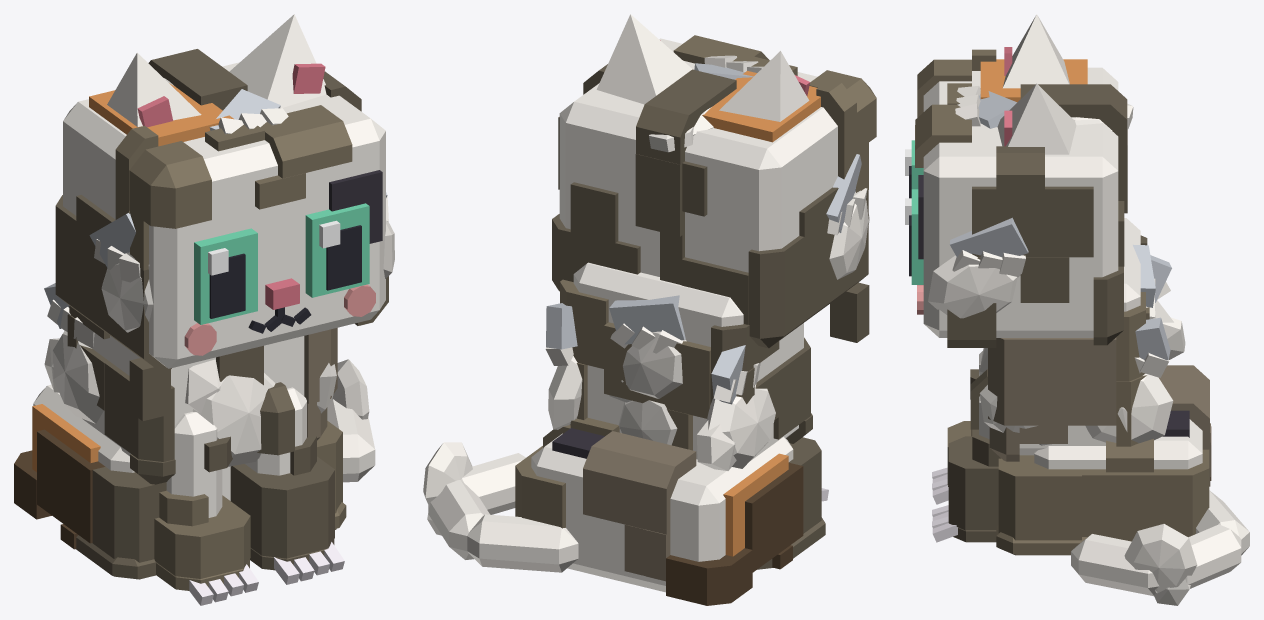
File: CleanACat_Cat_Patches_Dirty_Sit.fbx
The picture shows the model from 3 angles, left to right: view 1: azimuth 30°, elevation 25°; view 2: azimuth 150°, elevation 25°; view 3: azimuth 270°, elevation 25°; orthographic projection. The views are drawn at different scales.
Parts seen in each view (by area): view 1: CleanACat_Cat_Patches_Dirty_Sit_Head, CleanACat_Cat_Patches_Dirty_Sit_Mud17, CleanACat_Cat_Patches_Dirty_Sit_Mud01, CleanACat_Cat_Patches_Dirty_Sit_Mud06, CleanACat_Cat_Patches_Dirty_Sit_Body, CleanACat_Cat_Patches_Dirty_Sit_Mud18, CleanACat_Cat_Patches_Dirty_Sit_Mud03, CleanACat_Cat_Patches_Dirty_Sit_Mud16, CleanACat_Cat_Patches_Dirty_Sit_Mud14, CleanACat_Cat_Patches_Dirty_Sit_Mud10, CleanACat_Cat_Patches_Dirty_Sit_Eye2, CleanACat_Cat_Patches_Dirty_Sit_Eye1 (+22 smaller); view 2: CleanACat_Cat_Patches_Dirty_Sit_Head, CleanACat_Cat_Patches_Dirty_Sit_Body, CleanACat_Cat_Patches_Dirty_Sit_Mud01, CleanACat_Cat_Patches_Dirty_Sit_Mud04, CleanACat_Cat_Patches_Dirty_Sit_Mud13, CleanACat_Cat_Patches_Dirty_Sit_Tail, CleanACat_Cat_Patches_Dirty_Sit_Mud14, CleanACat_Cat_Patches_Dirty_Sit_Mud09, CleanACat_Cat_Patches_Dirty_Sit_Mud05, CleanACat_Cat_Patches_Dirty_Sit_Fluff06, CleanACat_Cat_Patches_Dirty_Sit_EarL, CleanACat_Cat_Patches_Dirty_Sit_Mud06 (+17 smaller); view 3: CleanACat_Cat_Patches_Dirty_Sit_Head, CleanACat_Cat_Patches_Dirty_Sit_Mud02, CleanACat_Cat_Patches_Dirty_Sit_Mud08, CleanACat_Cat_Patches_Dirty_Sit_Mud12, CleanACat_Cat_Patches_Dirty_Sit_Mud15, CleanACat_Cat_Patches_Dirty_Sit_Tail, CleanACat_Cat_Patches_Dirty_Sit_Body, CleanACat_Cat_Patches_Dirty_Sit_Mud17, CleanACat_Cat_Patches_Dirty_Sit_Fluff01, CleanACat_Cat_Patches_Dirty_Sit_Fluff09, CleanACat_Cat_Patches_Dirty_Sit_EarL, CleanACat_Cat_Patches_Dirty_Sit_Mud04 (+18 smaller).
Part boxes in pixels (x1=…): CleanACat_Cat_Patches_Dirty_Sit_Head: x1=63, y1=62, x2=385, y2=368; CleanACat_Cat_Patches_Dirty_Sit_Mud17: x1=230, y1=436, x2=334, y2=570; CleanACat_Cat_Patches_Dirty_Sit_Mud01: x1=55, y1=195, x2=171, y2=421; CleanACat_Cat_Patches_Dirty_Sit_Mud06: x1=115, y1=125, x2=211, y2=270; CleanACat_Cat_Patches_Dirty_Sit_Body: x1=32, y1=333, x2=304, y2=500; CleanACat_Cat_Patches_Dirty_Sit_Mud18: x1=154, y1=490, x2=250, y2=590; CleanACat_Cat_Patches_Dirty_Sit_Mud03: x1=205, y1=105, x2=352, y2=209; CleanACat_Cat_Patches_Dirty_Sit_Mud16: x1=76, y1=467, x2=166, y2=579; CleanACat_Cat_Patches_Dirty_Sit_Mud14: x1=14, y1=429, x2=105, y2=549; CleanACat_Cat_Patches_Dirty_Sit_Mud10: x1=80, y1=345, x2=175, y2=484; CleanACat_Cat_Patches_Dirty_Sit_Eye2: x1=194, y1=228, x2=257, y2=324; CleanACat_Cat_Patches_Dirty_Sit_Eye1: x1=305, y1=203, x2=369, y2=297; CleanACat_Cat_Patches_Dirty_Sit_Head: x1=559, y1=38, x2=837, y2=276; CleanACat_Cat_Patches_Dirty_Sit_Body: x1=531, y1=262, x2=803, y2=592; CleanACat_Cat_Patches_Dirty_Sit_Mud01: x1=681, y1=187, x2=869, y2=348; CleanACat_Cat_Patches_Dirty_Sit_Mud04: x1=635, y1=69, x2=736, y2=284; CleanACat_Cat_Patches_Dirty_Sit_Mud13: x1=583, y1=431, x2=696, y2=581; CleanACat_Cat_Patches_Dirty_Sit_Tail: x1=428, y1=453, x2=578, y2=572; CleanACat_Cat_Patches_Dirty_Sit_Mud14: x1=666, y1=462, x2=803, y2=605; CleanACat_Cat_Patches_Dirty_Sit_Mud09: x1=560, y1=279, x2=710, y2=450; CleanACat_Cat_Patches_Dirty_Sit_Mud05: x1=552, y1=182, x2=640, y2=291; CleanACat_Cat_Patches_Dirty_Sit_Fluff06: x1=696, y1=384, x2=775, y2=470; CleanACat_Cat_Patches_Dirty_Sit_EarL: x1=596, y1=14, x2=692, y2=104; CleanACat_Cat_Patches_Dirty_Sit_Mud06: x1=809, y1=70, x2=876, y2=192; CleanACat_Cat_Patches_Dirty_Sit_Head: x1=917, y1=59, x2=1118, y2=337; CleanACat_Cat_Patches_Dirty_Sit_Mud02: x1=947, y1=146, x2=1093, y2=347; CleanACat_Cat_Patches_Dirty_Sit_Mud08: x1=988, y1=337, x2=1116, y2=461; CleanACat_Cat_Patches_Dirty_Sit_Mud12: x1=1082, y1=439, x2=1209, y2=541; CleanACat_Cat_Patches_Dirty_Sit_Mud15: x1=996, y1=455, x2=1087, y2=555; CleanACat_Cat_Patches_Dirty_Sit_Tail: x1=1071, y1=490, x2=1249, y2=596; CleanACat_Cat_Patches_Dirty_Sit_Body: x1=1019, y1=218, x2=1202, y2=469; CleanACat_Cat_Patches_Dirty_Sit_Mud17: x1=948, y1=429, x2=1000, y2=542; CleanACat_Cat_Patches_Dirty_Sit_Fluff01: x1=928, y1=255, x2=1019, y2=318; CleanACat_Cat_Patches_Dirty_Sit_Fluff09: x1=1124, y1=524, x2=1197, y2=605; CleanACat_Cat_Patches_Dirty_Sit_EarL: x1=997, y1=83, x2=1076, y2=154; CleanACat_Cat_Patches_Dirty_Sit_Mud04: x1=1020, y1=84, x2=1127, y2=213.
Size of the model in its own units: 1.3 by 1.86 by 1.24.
Materials: 1 (1 with a texture image).
